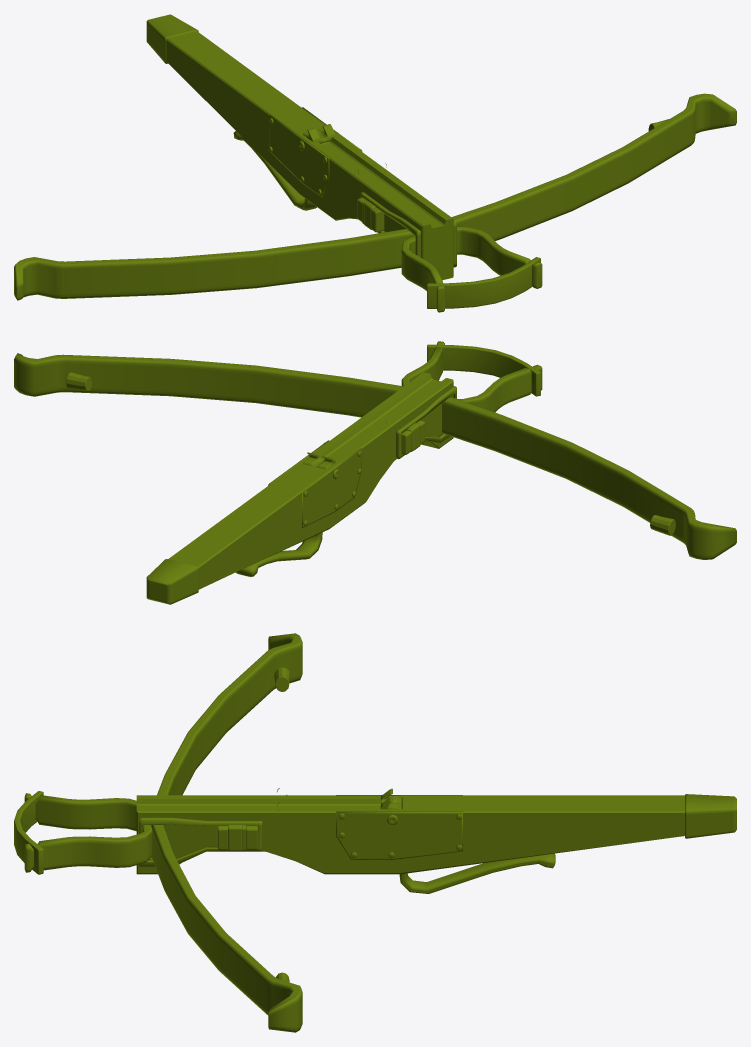
Rendered from arbalete.fbx.
3 views of the same model, one above another, from view 1: azimuth 30°, elevation 25°; view 2: azimuth 150°, elevation 25°; view 3: azimuth 270°, elevation 25° (orthographic). The views are drawn at different scales.
Visible parts, largest first — view 1: arbalete; view 2: arbalete; view 3: arbalete.
Part boxes in pixels (<box>): arbalete: <box>14,14,736,312</box>; arbalete: <box>14,341,736,604</box>; arbalete: <box>14,633,736,1032</box>.
Bounding box in the file's own units: 4.03 × 0.4849 × 3.27.
